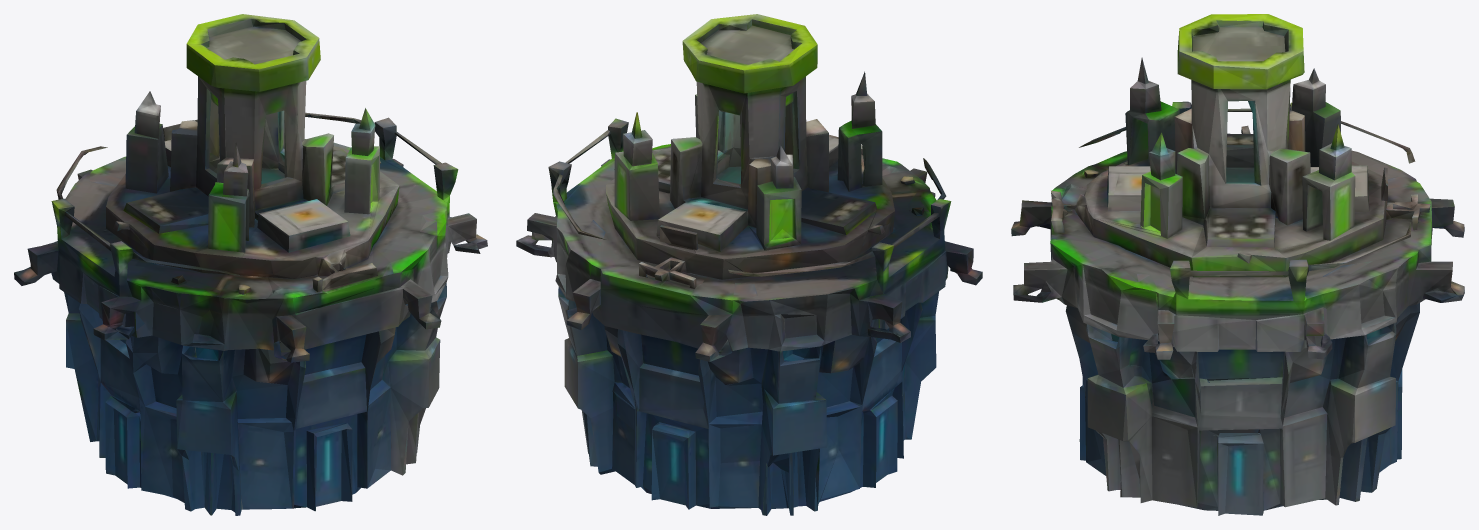
Rendered from station-ai-lime.glb.
The picture shows the model from 3 angles, left to right: view 1: azimuth 30°, elevation 25°; view 2: azimuth 150°, elevation 25°; view 3: azimuth 270°, elevation 25°; orthographic projection.
Visible parts, largest first — view 1: geometry_0; view 2: geometry_0; view 3: geometry_0.
Part boxes in pixels (box(x1,y1,x2,y2)): geometry_0: box(14, 14, 487, 515); geometry_0: box(516, 14, 982, 515); geometry_0: box(1011, 14, 1464, 515).
Bounding box in the file's own units: 0.9955 × 0.9988 × 0.995.
Materials: 1 (1 with a texture image).
